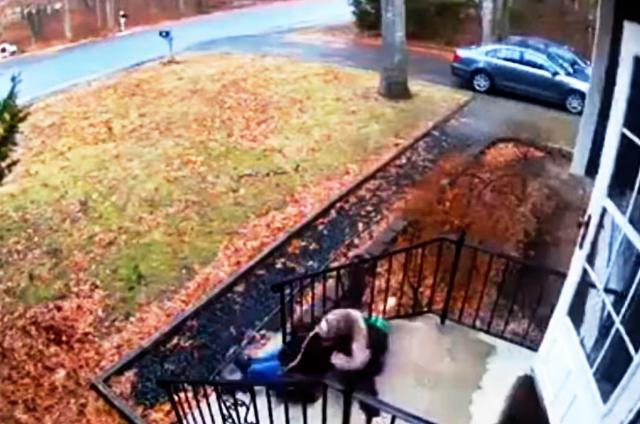jatuh: (233, 307, 397, 424)
